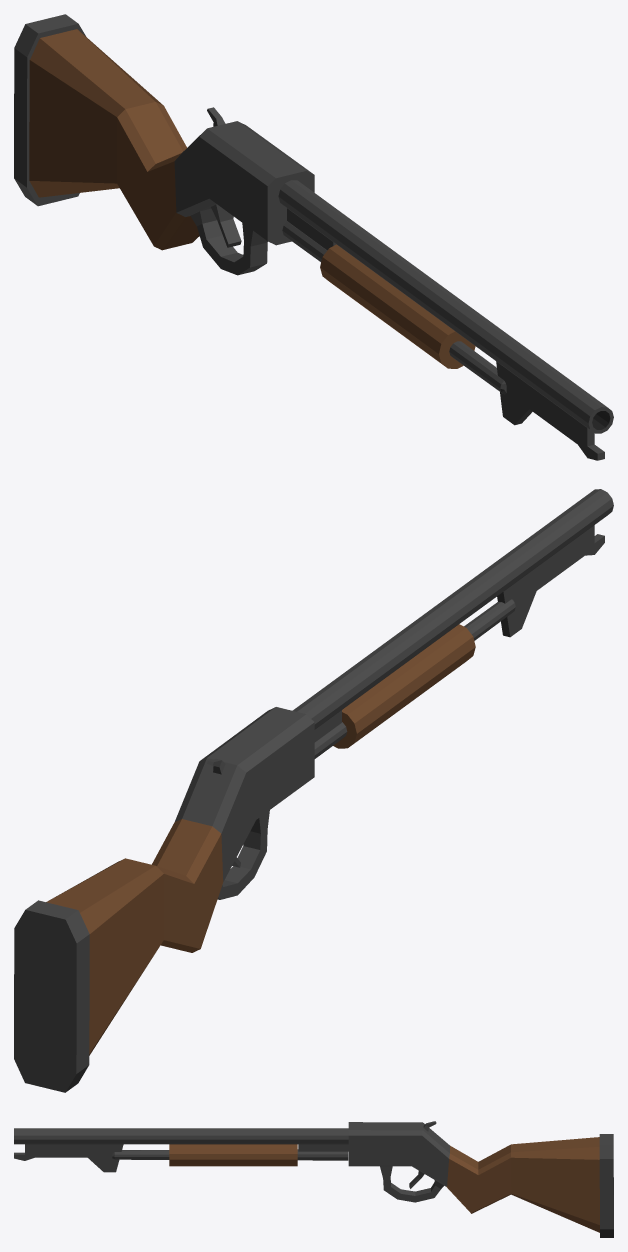
File: wpn_shotgun.glb
3 views of the same model, one above another, from view 1: azimuth 30°, elevation 25°; view 2: azimuth 150°, elevation 25°; view 3: azimuth 270°, elevation 25° (orthographic). The views are drawn at different scales.
Parts seen in each view (by area): view 1: shotgun; view 2: shotgun; view 3: shotgun.
Part boxes in pixels (x1,y1,x2,y2): shotgun: (14, 14, 613, 460); shotgun: (14, 489, 613, 1092); shotgun: (14, 1121, 613, 1237).
Size of the model in its own units: 2.35 by 7.39 by 36.29.
1 material, 1 textured.
